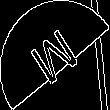M_SE: (25, 21, 85, 89)
